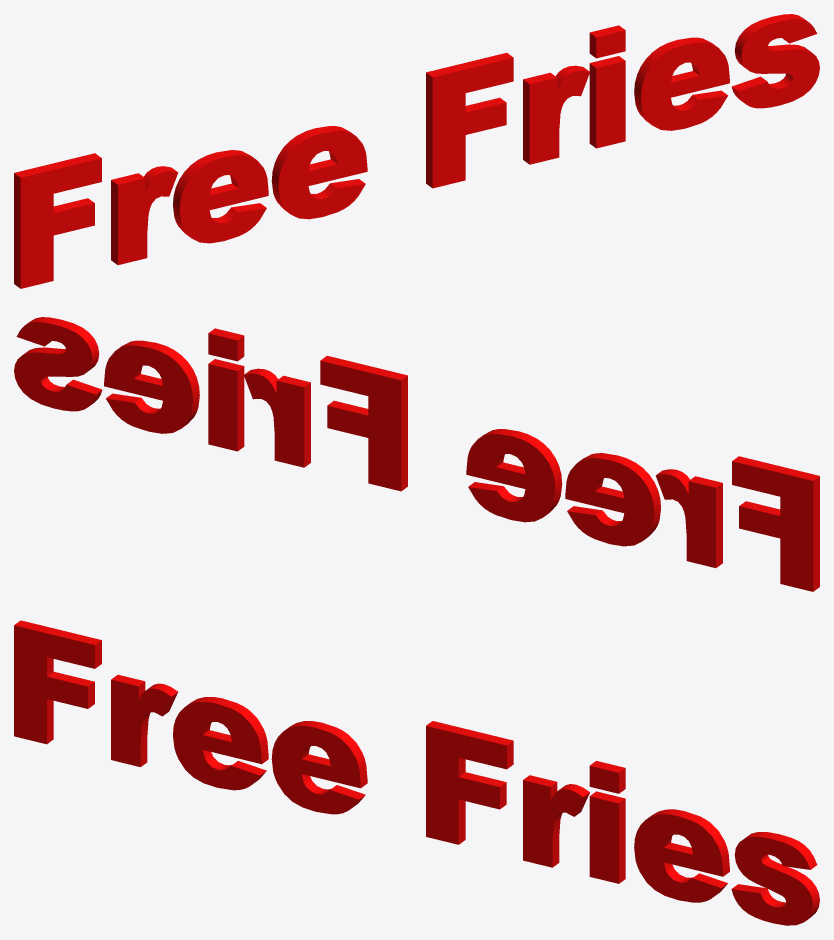
3 views of the same model, one above another, from view 1: azimuth 30°, elevation 25°; view 2: azimuth 150°, elevation 25°; view 3: azimuth 330°, elevation 25° (orthographic).
Visible parts, largest first — view 1: Free_Fries (×10); view 2: Free_Fries (×10); view 3: Free_Fries (×10).
Boxes of the visible parts, x1,y1,x2,y2 form: Free_Fries (×10): (14,14,819,288); Free_Fries (×10): (14,317,819,591); Free_Fries (×10): (14,620,819,925).
Bounding box in the file's own units: 7.46 × 0.11 × 1.01.
